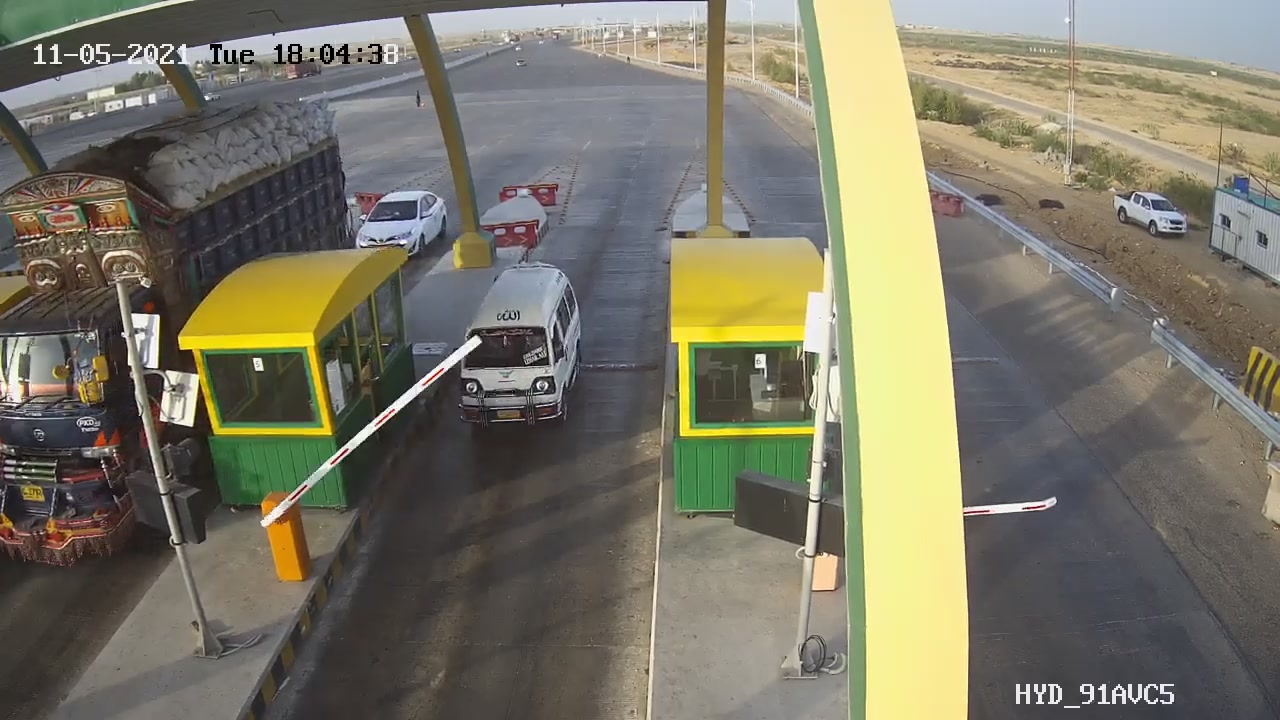F1: (435, 255, 614, 453)
